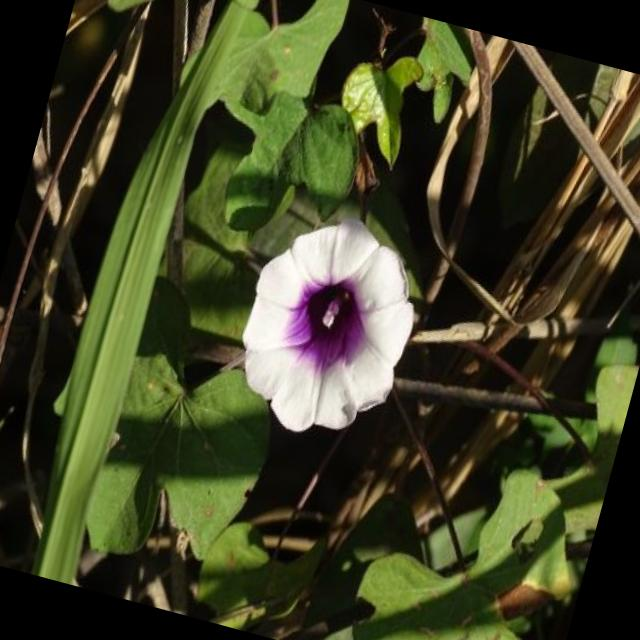ipomoea: (216, 195, 439, 460)
